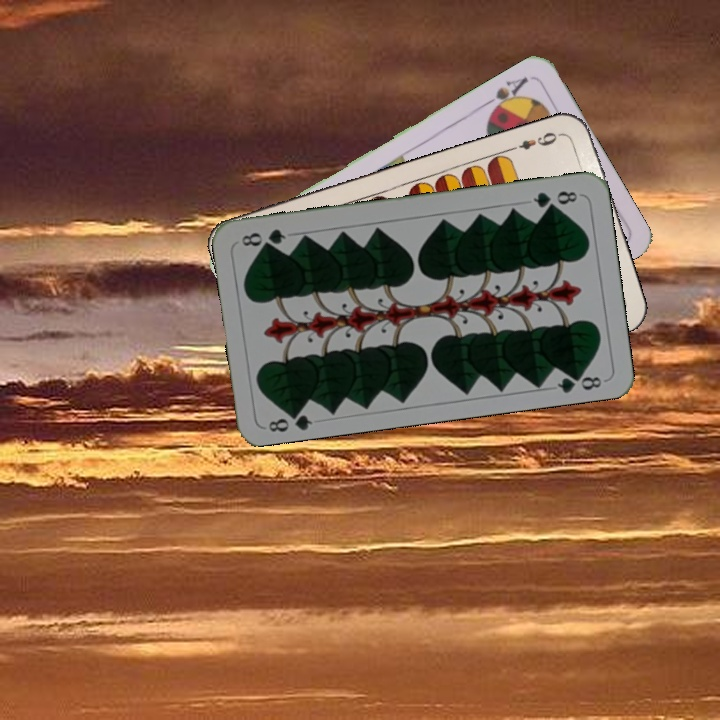E9: (507, 128, 565, 153)
G8: (264, 404, 315, 435), (529, 187, 580, 211)
SA: (479, 72, 531, 118)
